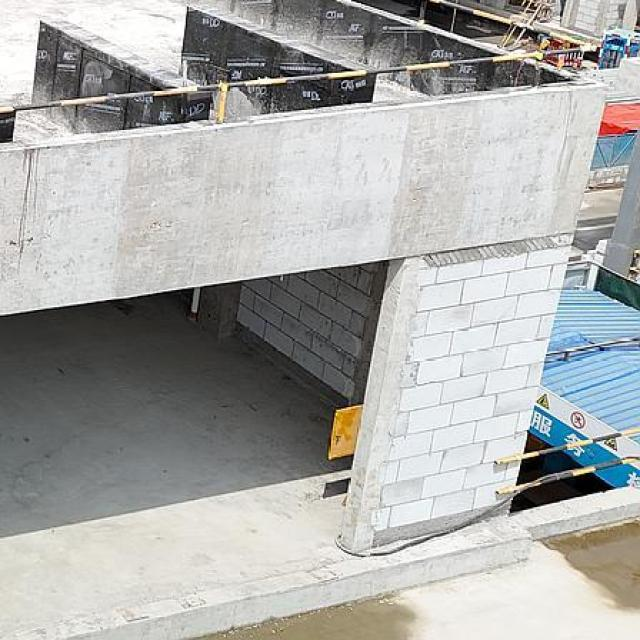edge_guardrail: (0, 0, 599, 126), (494, 426, 640, 497)
